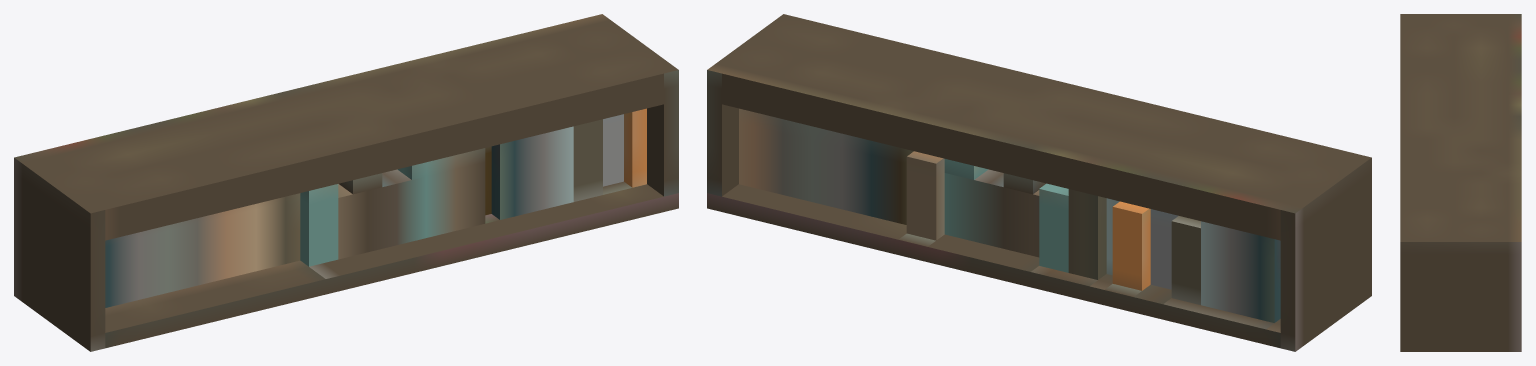
File: BookshelfWideBrown_B_00.fbx
3 renders of one model, left to right at view 1: azimuth 30°, elevation 25°; view 2: azimuth 150°, elevation 25°; view 3: azimuth 270°, elevation 25°, orthographic. The views are drawn at different scales.
Parts seen in each view (by area): view 1: BookshelfWideBrown_B_00; view 2: BookshelfWideBrown_B_00; view 3: BookshelfWideBrown_B_00.
Part boxes in pixels (x1=…): BookshelfWideBrown_B_00: x1=14, y1=14, x2=678, y2=351; BookshelfWideBrown_B_00: x1=707, y1=14, x2=1371, y2=351; BookshelfWideBrown_B_00: x1=1400, y1=14, x2=1521, y2=351.
Size of the model in its own units: 200 by 45 by 45.
Materials: 1 (1 with a texture image).
